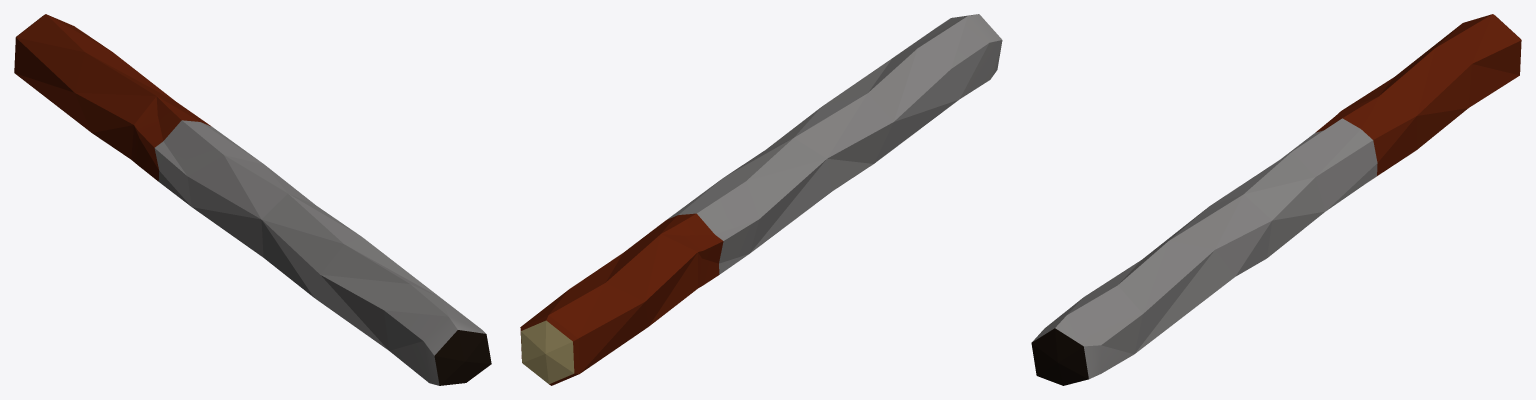
The model's file is WW_cigarette_prop.fbx.
3 renders of one model, left to right at view 1: azimuth 30°, elevation 25°; view 2: azimuth 150°, elevation 25°; view 3: azimuth 330°, elevation 25°, orthographic.
Parts seen in each view (by area): view 1: cigarette; view 2: cigarette; view 3: cigarette.
Boxes of the visible parts, bbox=[...] form: cigarette: bbox=[14, 14, 491, 385]; cigarette: bbox=[520, 14, 1002, 385]; cigarette: bbox=[1031, 14, 1521, 385].
Size of the model in its own units: 1.82 by 1.88 by 20.39.
